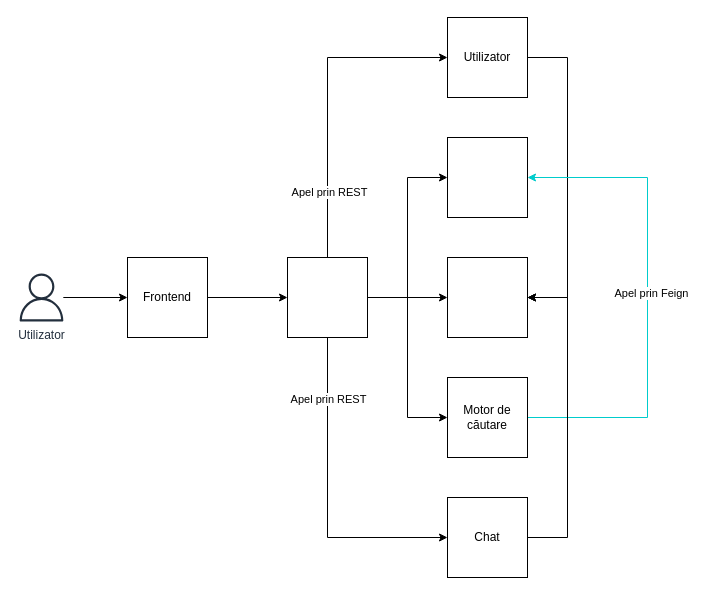
Some shapes in this 705 by 595 pixel diagram are drawn without their labels. Here are the shapes that lost their labels. From the top down, the box of each, then its label:
(446, 136, 528, 218): Produs
(286, 256, 368, 338): Api Gateway
(446, 256, 528, 338): Librarie Comună
